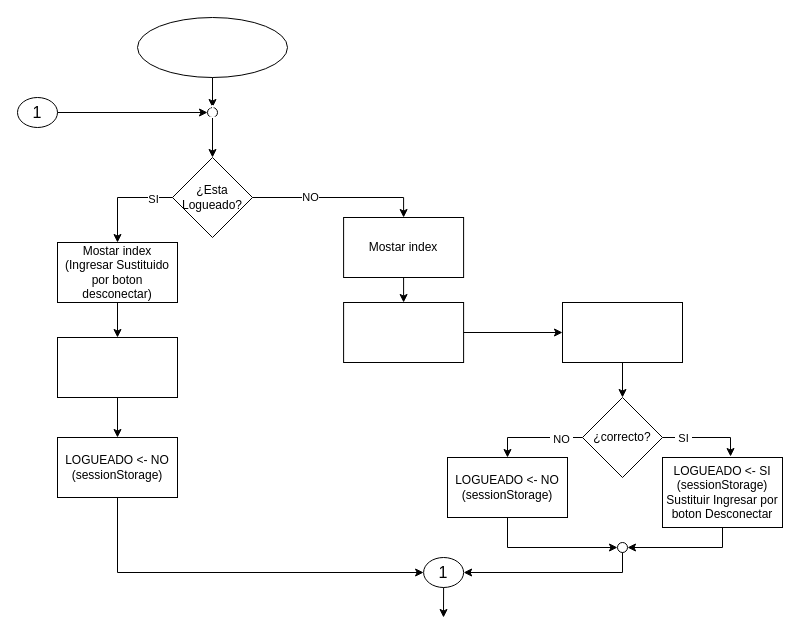
This 800x643 diagram has some shape labels left out. Each missing label, with the centre of its shape:
"cargar index.html" belongs at (x=212, y=47).
"PEDIR usr + clave y VALIDAR" belongs at (x=622, y=332).
"Pulsar Desconectar" belongs at (x=117, y=367).
"Seleccionar Ingresar" belongs at (x=403, y=332).
